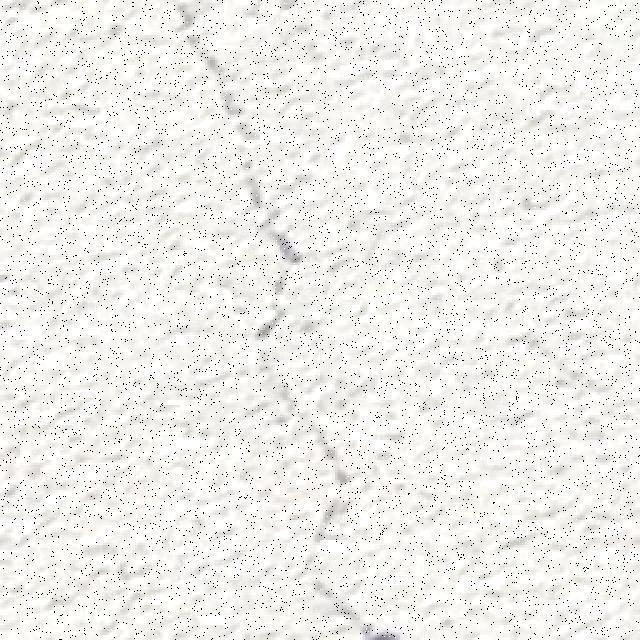moderate crack: (179, 9, 310, 278), (302, 527, 394, 638), (294, 422, 363, 551), (248, 218, 304, 334)
